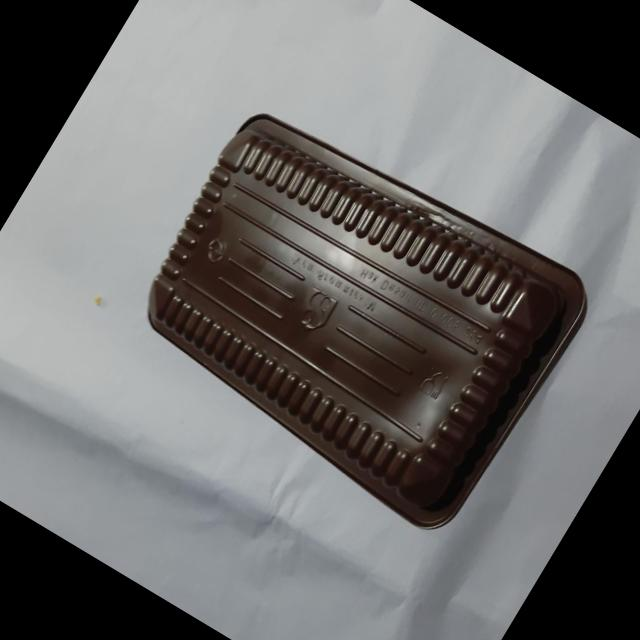KemasanPlastik: (108, 82, 604, 546)
